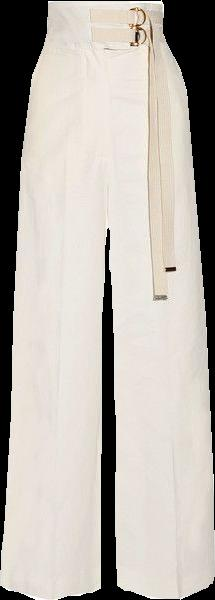Hemline: (114, 575, 214, 599), (0, 581, 102, 599)
Pantleg: (0, 2, 109, 599), (109, 1, 214, 597)
Waistline: (46, 0, 165, 6)
